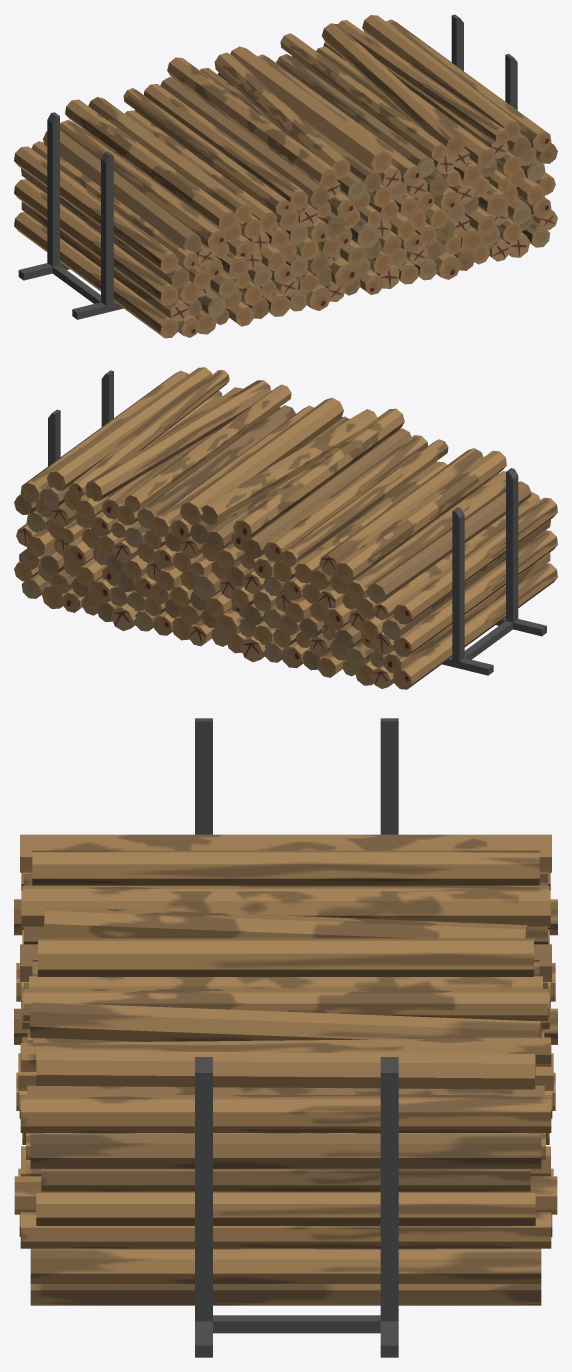
File: SM_Prop_LogPile_Preset_Large_01.fbx
The picture shows the model from 3 angles, top to bottom: view 1: azimuth 30°, elevation 25°; view 2: azimuth 150°, elevation 25°; view 3: azimuth 270°, elevation 25°; orthographic projection. The views are drawn at different scales.
Visible parts, largest first — view 1: SM_Prop_LogPile_Preset_Large_01; view 2: SM_Prop_LogPile_Preset_Large_01; view 3: SM_Prop_LogPile_Preset_Large_01.
Boxes of the visible parts, <box> form: SM_Prop_LogPile_Preset_Large_01: <box>14,14,557,338</box>; SM_Prop_LogPile_Preset_Large_01: <box>14,367,557,689</box>; SM_Prop_LogPile_Preset_Large_01: <box>14,718,557,1357</box>.
Size of the model in its own units: 1756 by 562 by 1018.
